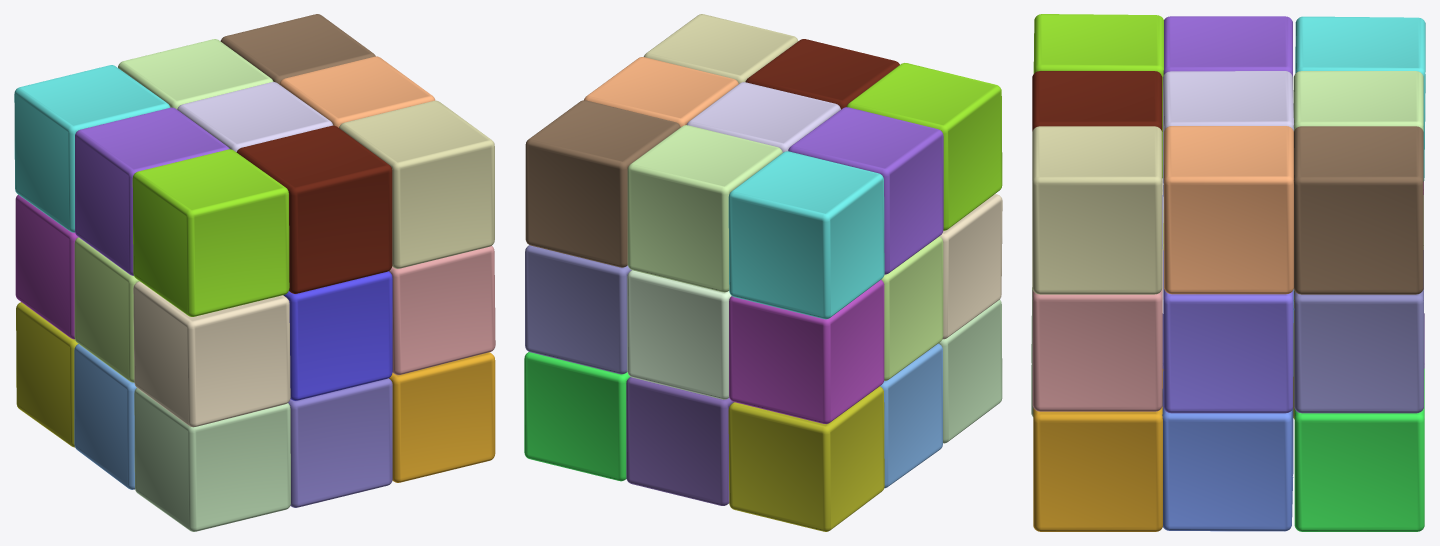
The picture shows the model from 3 angles, left to right: view 1: azimuth 30°, elevation 25°; view 2: azimuth 150°, elevation 25°; view 3: azimuth 270°, elevation 25°; orthographic projection. The views are drawn at different scales.
Visible parts, largest first — view 1: Object_38, Object_62, Object_107, Object_18, Object_4, Object_29, Object_43, Object_13, Object_59, Object_25, Object_69, Object_34 (+7 smaller); view 2: Object_29, Object_98, Object_78, Object_73, Object_87, Object_43, Object_38, Object_82, Object_9, Object_94, Object_54, Object_62 (+7 smaller); view 3: Object_4, Object_73, Object_50, Object_22, Object_13, Object_82, Object_9, Object_103, Object_69, Object_38, Object_29, Object_18 (+3 smaller).
Boxes of the visible parts, bbox=[...] form: Object_38: bbox=[132, 149, 289, 316]; Object_62: bbox=[133, 281, 290, 427]; Object_107: bbox=[134, 388, 290, 531]; Object_18: bbox=[236, 125, 392, 293]; Object_4: bbox=[339, 100, 494, 268]; Object_29: bbox=[14, 65, 170, 232]; Object_43: bbox=[75, 107, 229, 275]; Object_13: bbox=[389, 352, 495, 482]; Object_59: bbox=[283, 271, 392, 400]; Object_25: bbox=[288, 378, 392, 507]; Object_69: bbox=[389, 246, 495, 375]; Object_34: bbox=[74, 344, 136, 489]; Object_29: bbox=[728, 151, 884, 319]; Object_98: bbox=[728, 386, 884, 531]; Object_78: bbox=[729, 280, 884, 424]; Object_73: bbox=[525, 100, 680, 267]; Object_87: bbox=[627, 125, 782, 292]; Object_43: bbox=[788, 107, 943, 274]; Object_38: bbox=[846, 63, 1002, 230]; Object_82: bbox=[524, 352, 630, 481]; Object_9: bbox=[525, 245, 631, 374]; Object_94: bbox=[626, 377, 733, 505]; Object_54: bbox=[627, 270, 731, 399]; Object_62: bbox=[940, 194, 1002, 339]; Object_4: bbox=[1032, 126, 1162, 294]; Object_73: bbox=[1294, 126, 1423, 294]; Object_50: bbox=[1164, 126, 1293, 294]; Object_22: bbox=[1163, 250, 1293, 413]; Object_13: bbox=[1033, 369, 1163, 531]; Object_82: bbox=[1294, 368, 1424, 531]; Object_9: bbox=[1294, 250, 1423, 413]; Object_103: bbox=[1162, 371, 1293, 531]; Object_69: bbox=[1032, 249, 1162, 411]; Object_38: bbox=[1033, 14, 1163, 178]; Object_29: bbox=[1295, 16, 1425, 181]; Object_18: bbox=[1032, 71, 1162, 131].
Size of the model in its own units: 0.9932 by 1 by 0.9975.
